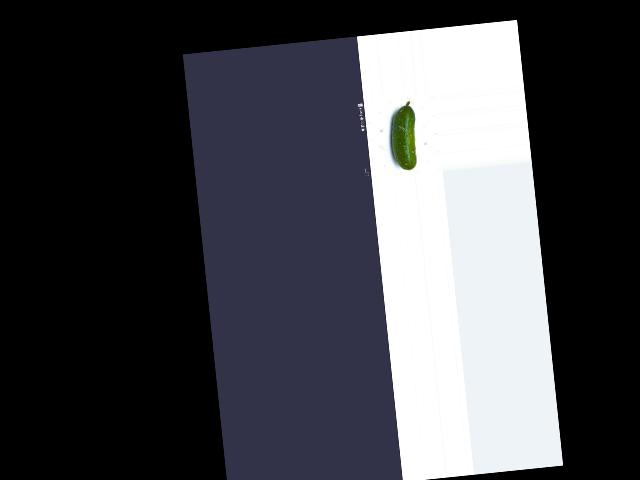cucumber: (387, 100, 420, 172)
